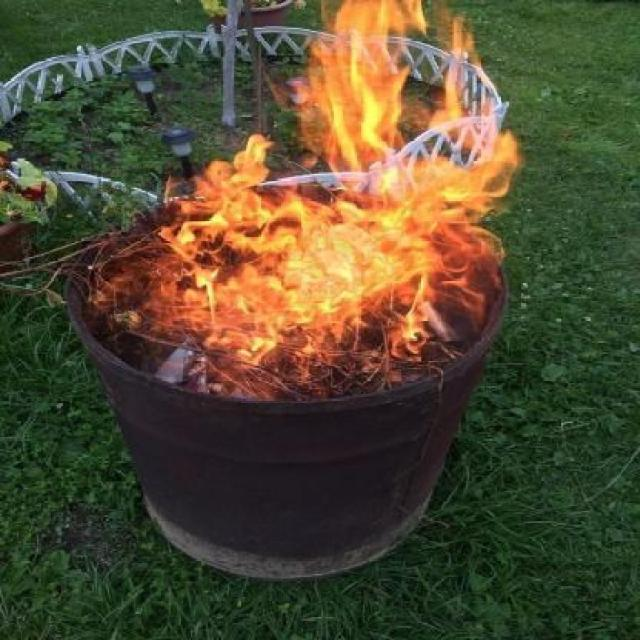fire: (182, 186, 414, 352), (311, 2, 403, 168)
